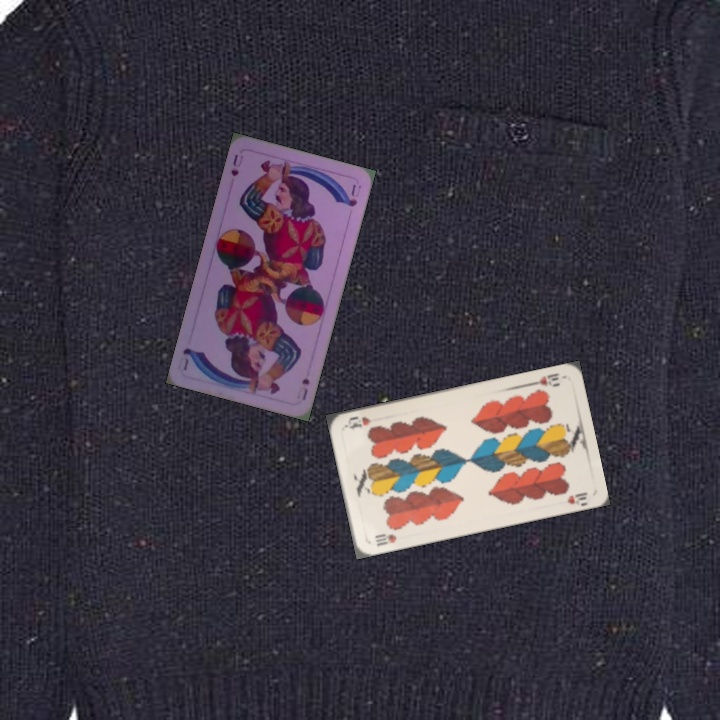H10: (526, 369, 562, 389), (371, 529, 399, 549)
SU: (227, 150, 246, 179), (298, 374, 312, 403)
